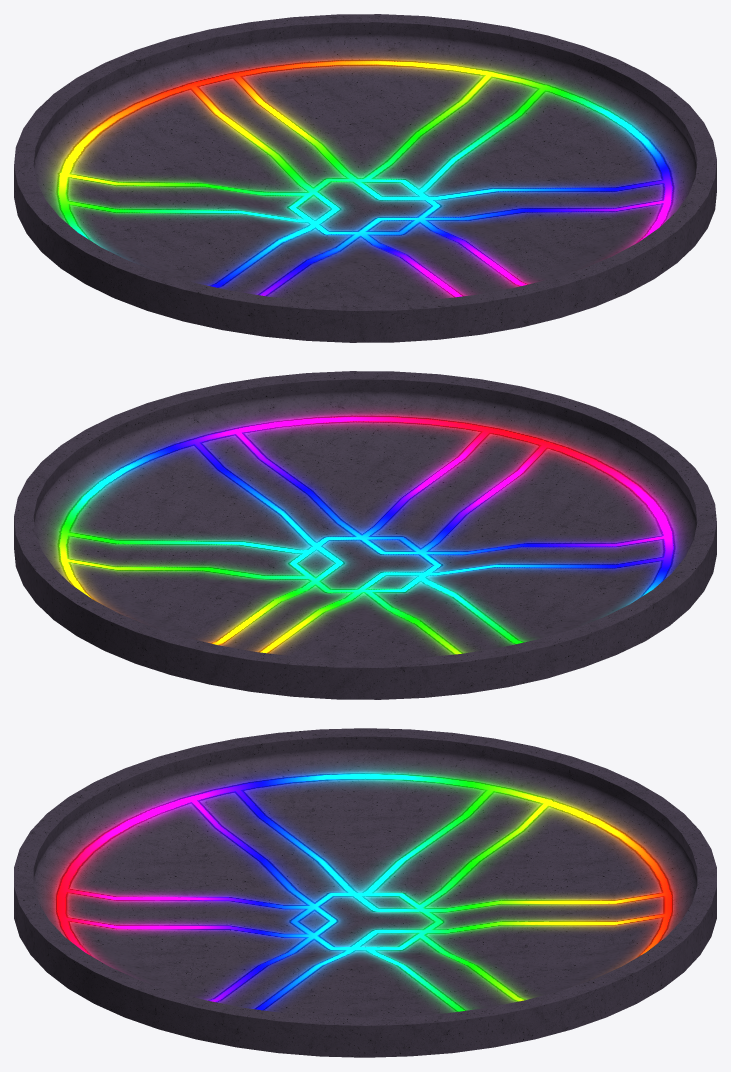
Rendered from arena_001.fbx.
The picture shows the model from 3 angles, top to bottom: view 1: azimuth 30°, elevation 25°; view 2: azimuth 150°, elevation 25°; view 3: azimuth 270°, elevation 25°; orthographic projection.
Visible parts, largest first — view 1: Arena_001; view 2: Arena_001; view 3: Arena_001.
Part boxes in pixels (<box>): Arena_001: <box>14,14,716,342</box>; Arena_001: <box>14,371,716,699</box>; Arena_001: <box>14,728,716,1057</box>.
Size of the model in its own units: 20000 by 1402 by 19961.
